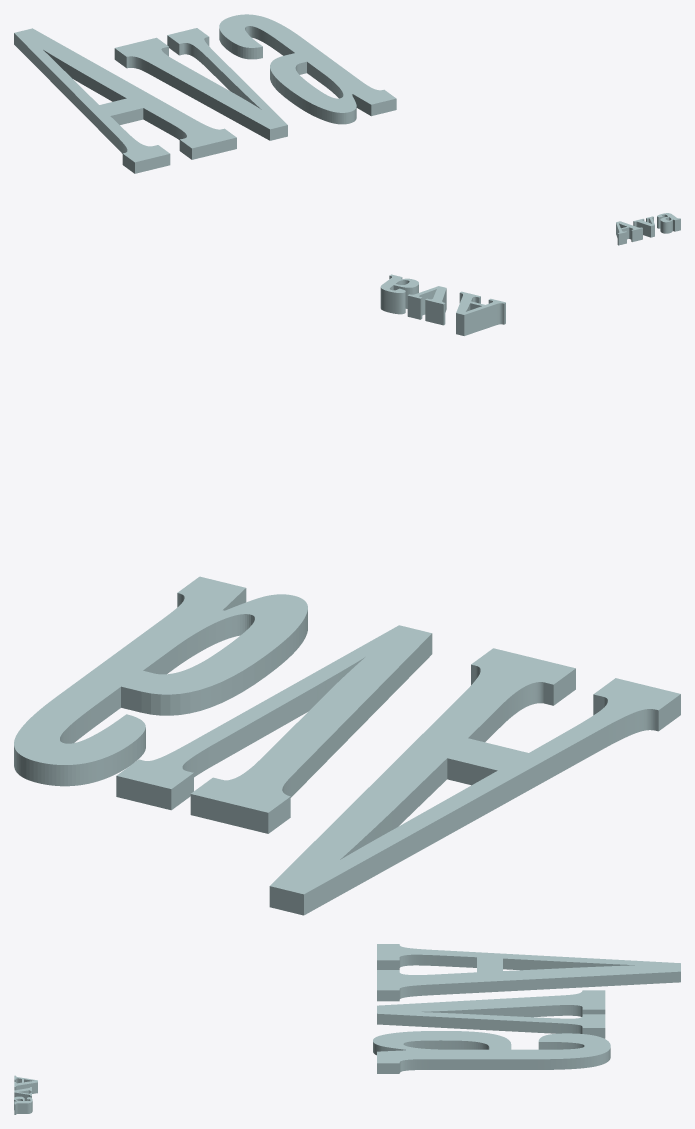
Rendered from Frantic Luulia-Waasa.glb.
The picture shows the model from 3 angles, top to bottom: view 1: azimuth 30°, elevation 25°; view 2: azimuth 150°, elevation 25°; view 3: azimuth 270°, elevation 25°; orthographic projection. The views are drawn at different scales.
Visible parts, largest first — view 1: Mesh_Mesh_head_geo.001_lambert2SG.001; view 2: Mesh_Mesh_head_geo.001_lambert2SG.001; view 3: Mesh_Mesh_head_geo.001_lambert2SG.001.
Boxes of the visible parts, x1=… form: Mesh_Mesh_head_geo.001_lambert2SG.001: x1=14, y1=14, x2=680, y2=245; Mesh_Mesh_head_geo.001_lambert2SG.001: x1=14, y1=274, x2=680, y2=915; Mesh_Mesh_head_geo.001_lambert2SG.001: x1=14, y1=944, x2=680, y2=1114.
Bounding box in the file's own units: 0.32 × 0.01 × 0.563.
